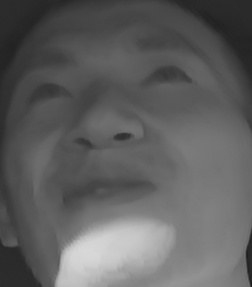eye: (139, 62, 195, 94), (20, 79, 72, 109)
mouth: (49, 161, 158, 218)
